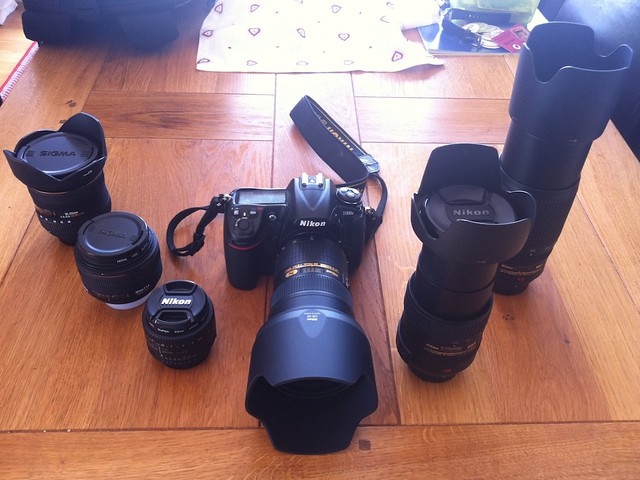Camera: (219, 172, 385, 458), (480, 17, 635, 299), (393, 139, 539, 386), (4, 111, 114, 245), (74, 207, 166, 313), (141, 277, 219, 371)
